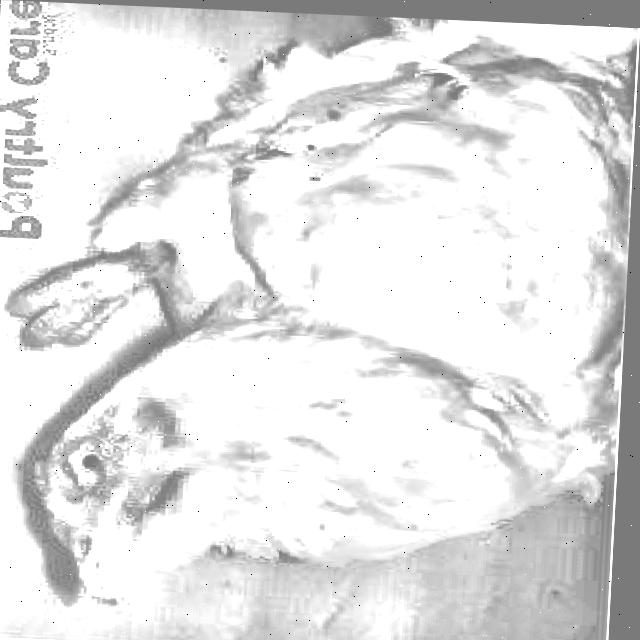Newcastle: (6, 1, 628, 622)
